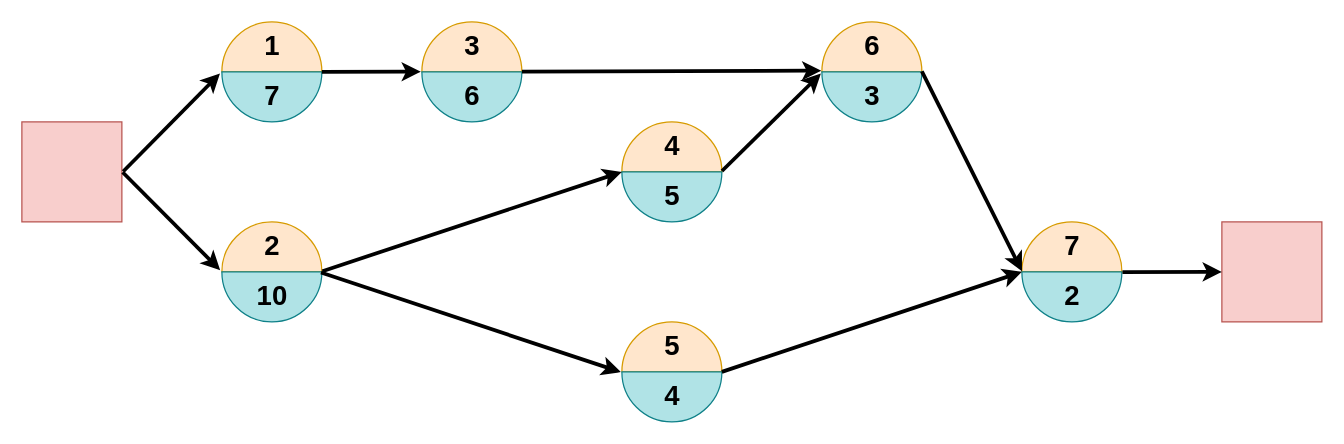
The diagram is 1344 pixels wide and 444 high, and some of its shapes have lost their labels. The shapes that lost their labels are listed below. From the top down, each one's centre as x and y in pixels, then its label:
the point at 71,171: Start
the point at 1271,271: Finish
